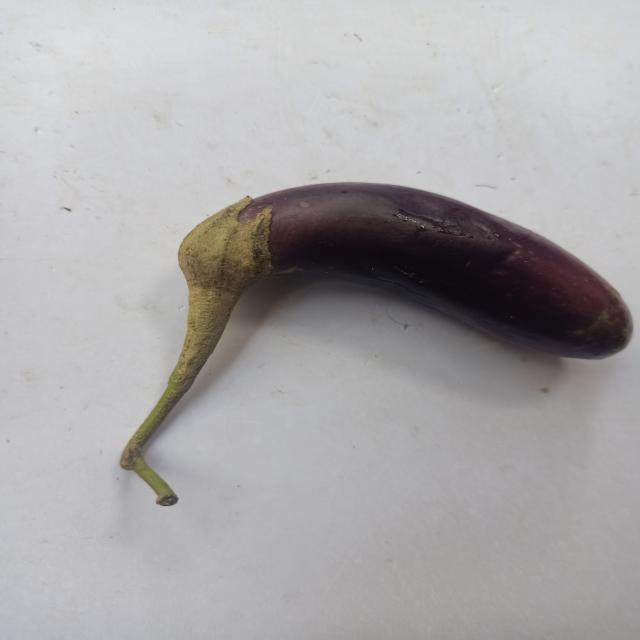Brinjal: (96, 166, 640, 517)
